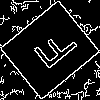F: (25, 25, 80, 78)
